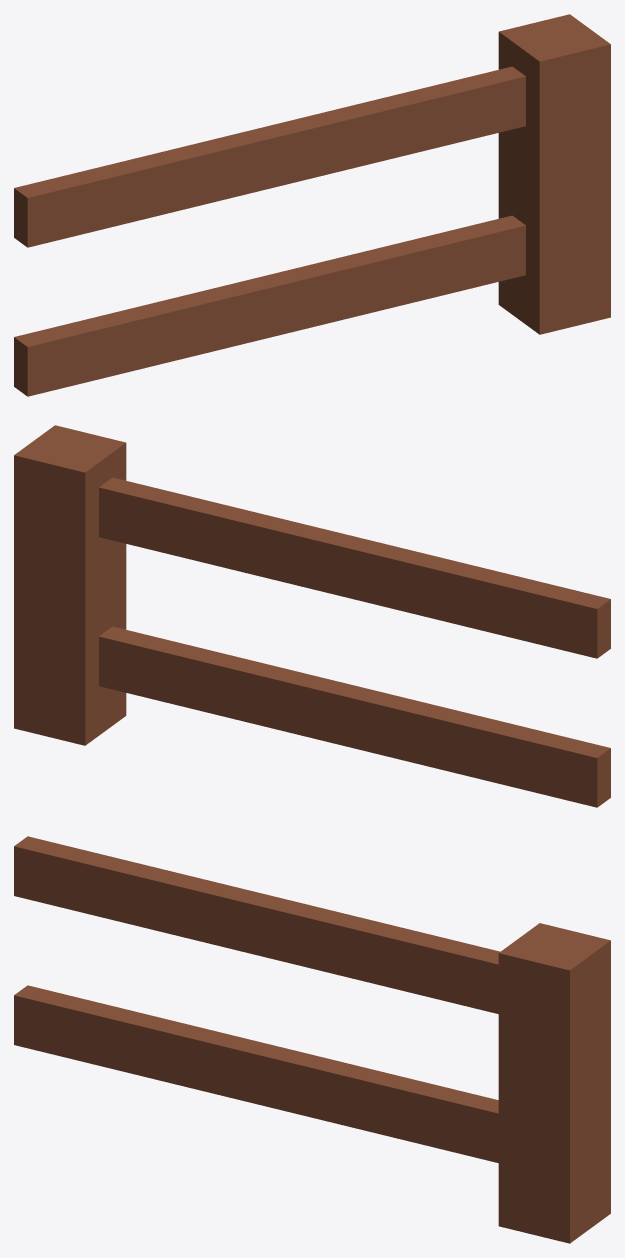
The model's file is fence_lego.obj.
The picture shows the model from 3 angles, top to bottom: view 1: azimuth 30°, elevation 25°; view 2: azimuth 150°, elevation 25°; view 3: azimuth 330°, elevation 25°; orthographic projection.
Bounding box in the file's own units: 2.4 × 1.1 × 0.3.
Materials: 1 (1 with a texture image).
